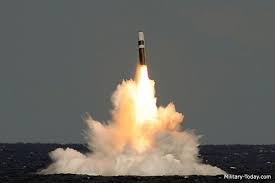ten_lua: (135, 27, 150, 82)
